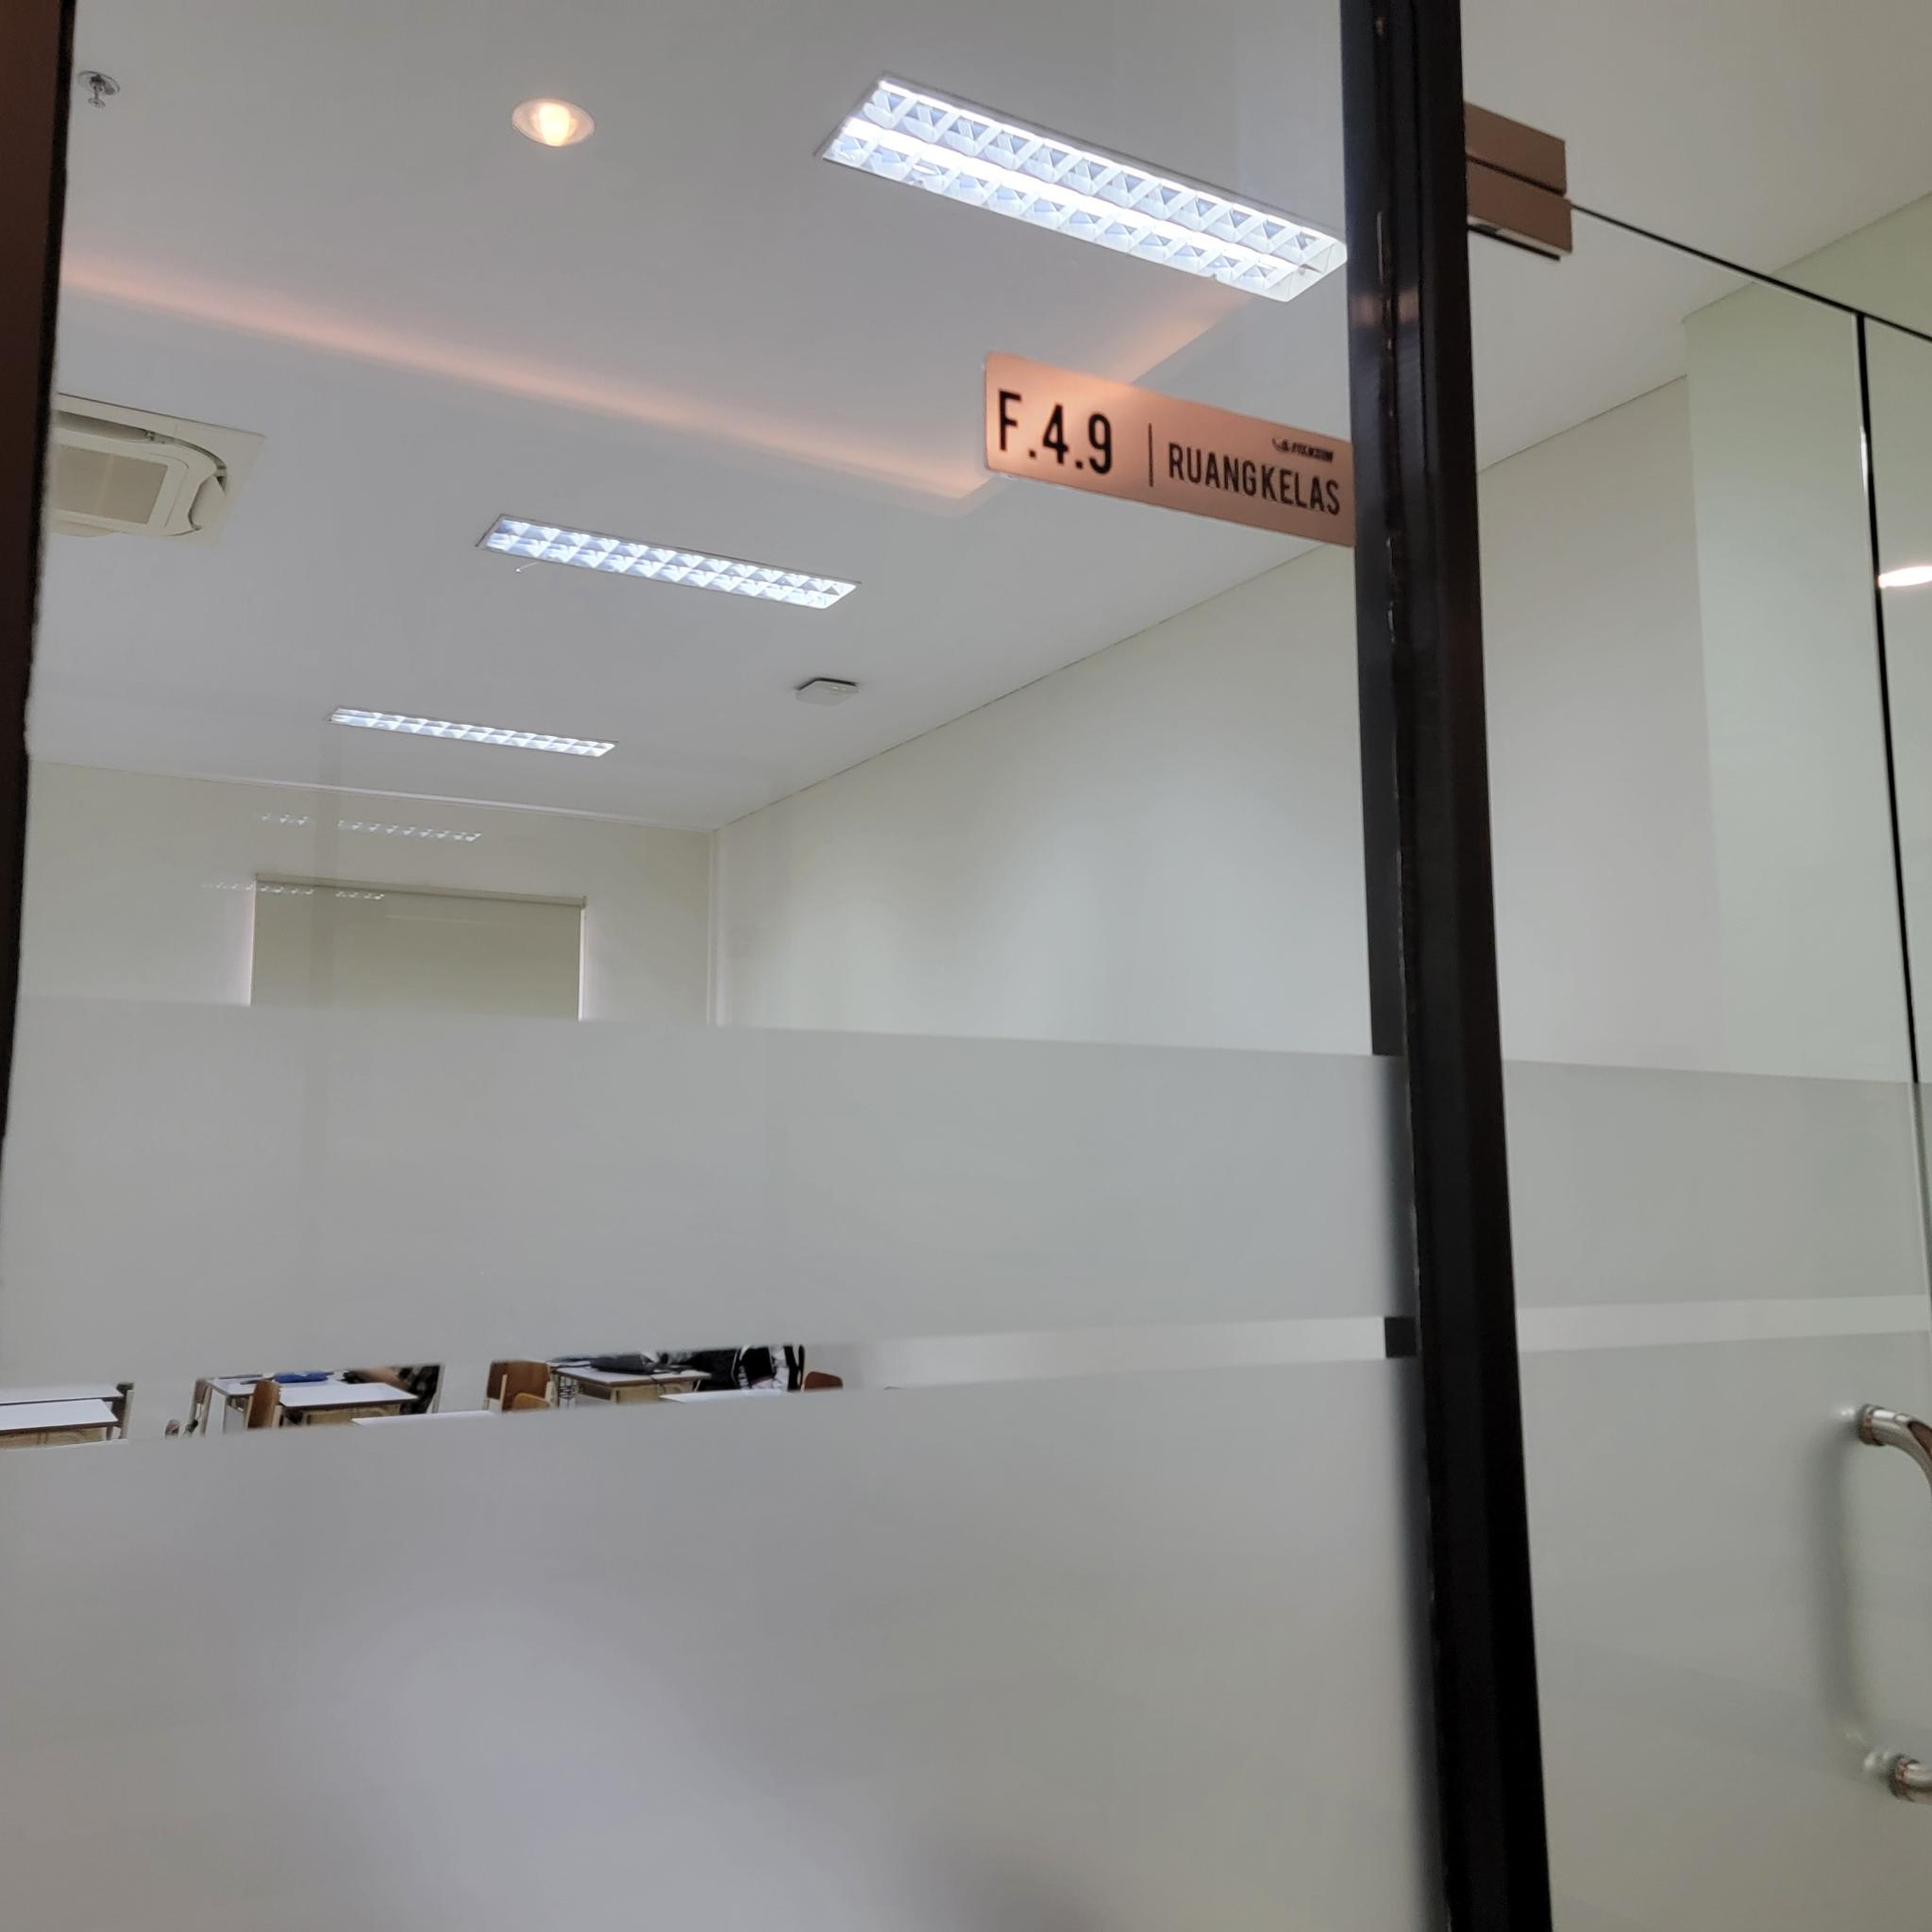plate: (984, 349, 1357, 550)
